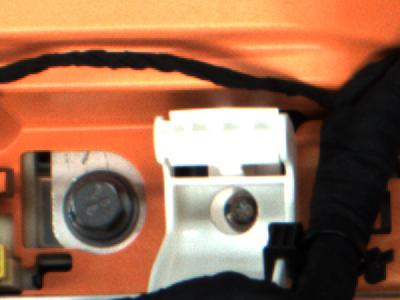nut_b: (60, 172, 143, 242)
